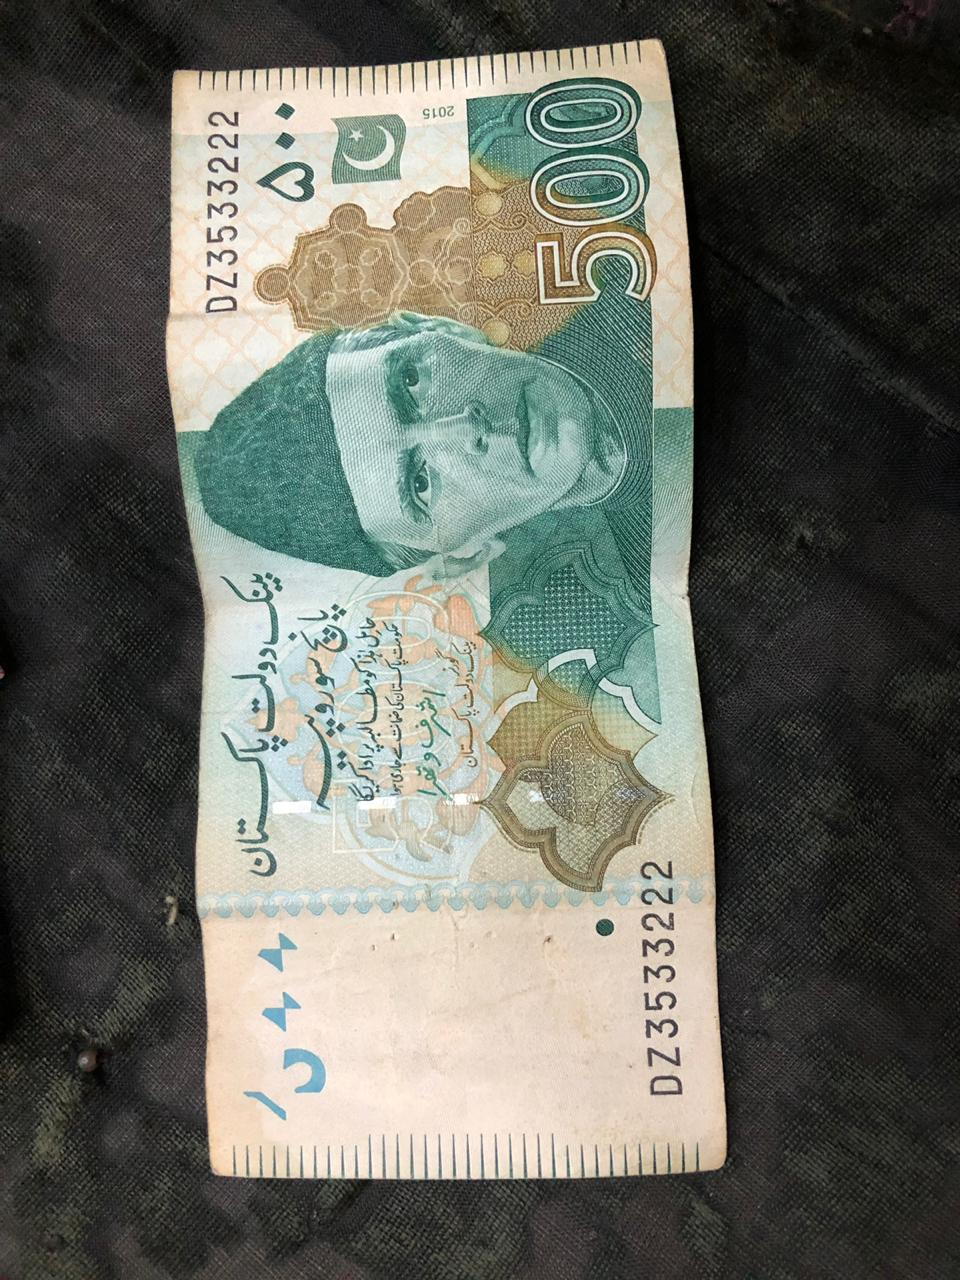500 rupee: (159, 52, 752, 1226)
